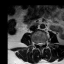CCS_normal: (39, 38, 41, 49)
LFS_normal: (43, 38, 45, 46)
LLS_normal: (41, 39, 43, 47)
RFS_normal: (35, 39, 37, 47)
RLS_normal: (37, 39, 39, 47)
